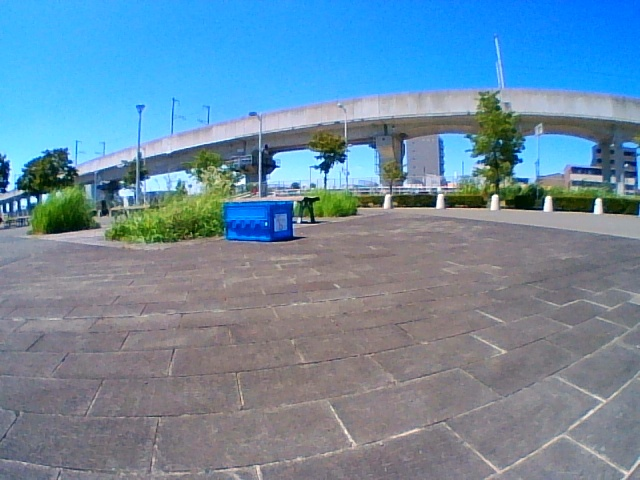blue_box: (225, 203, 293, 239)
tag: (275, 214, 286, 231)
